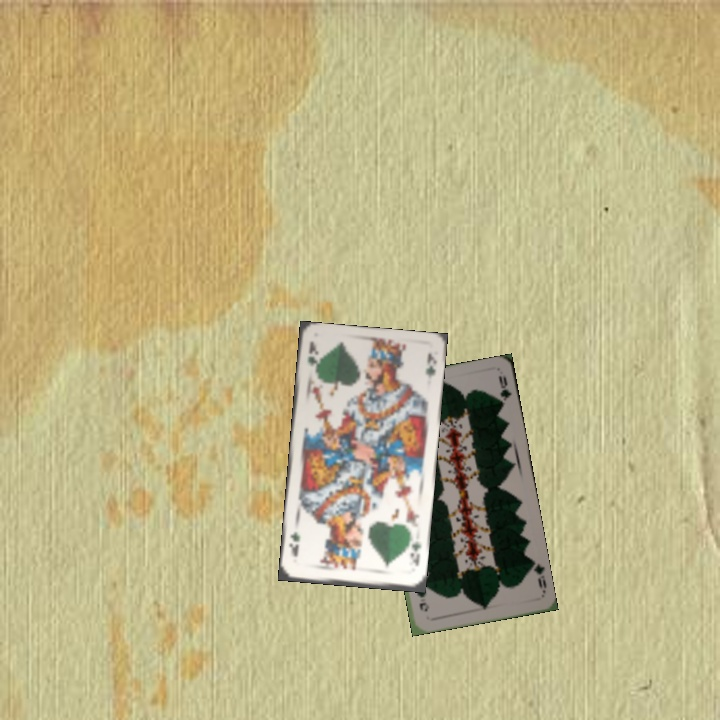G9: (526, 556, 549, 596)
GK: (304, 337, 320, 376), (406, 537, 424, 569)
